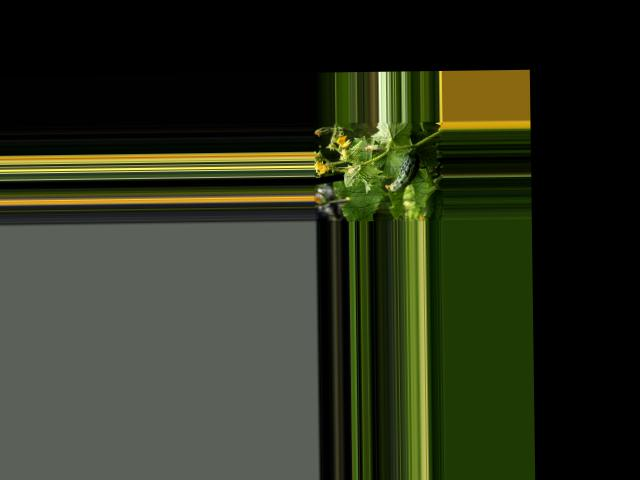cucumber: (384, 151, 419, 192)
